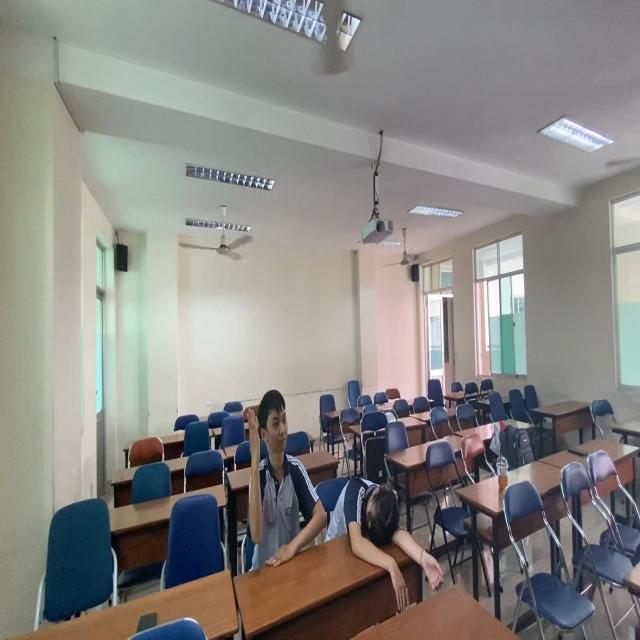raise_hand: (243, 383, 328, 590)
sleep: (332, 470, 447, 617)
